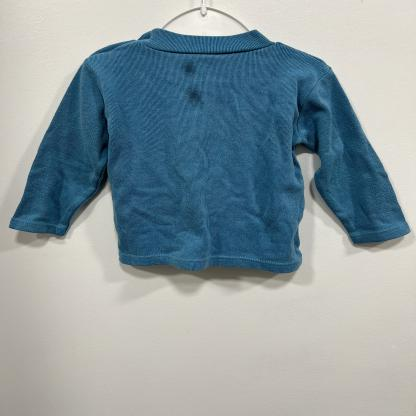stain: (182, 83, 208, 110), (178, 58, 198, 80)
